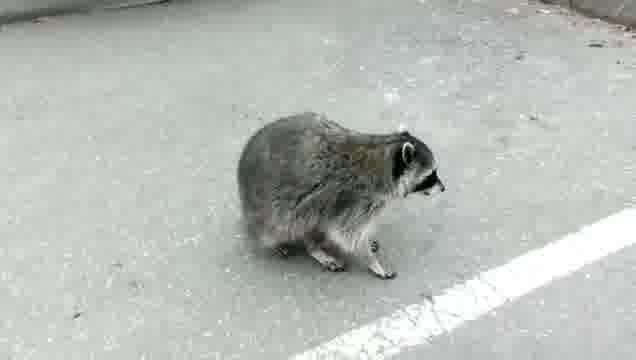raccoon: (235, 110, 446, 281)
